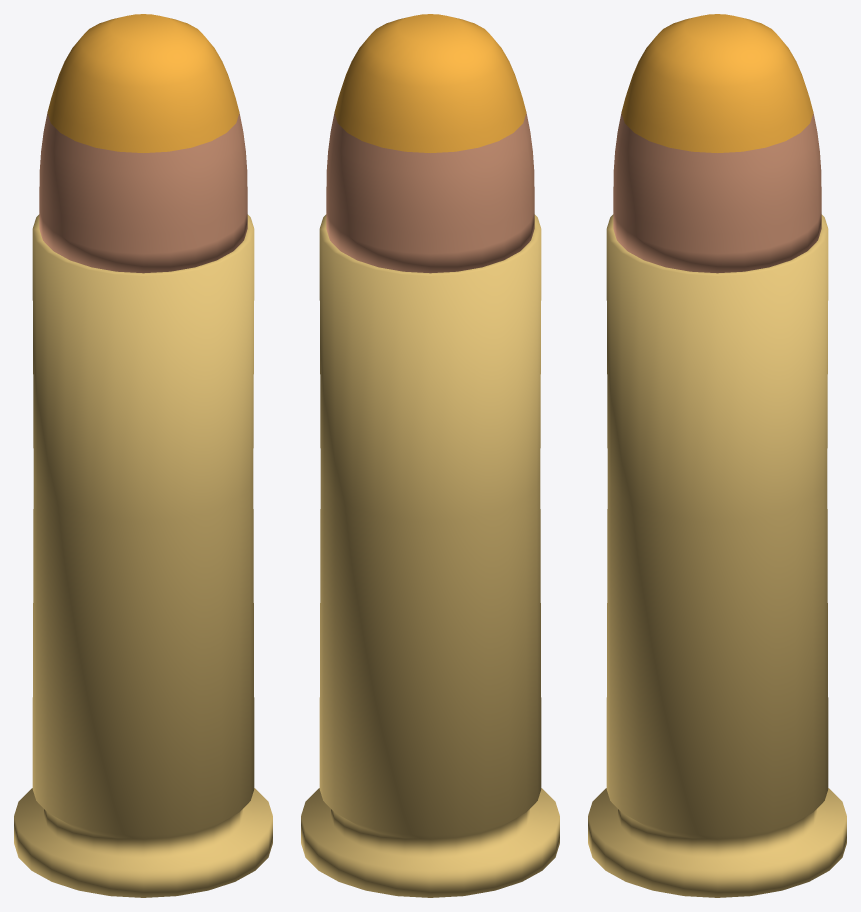
3 renders of one model, left to right at view 1: azimuth 30°, elevation 25°; view 2: azimuth 150°, elevation 25°; view 3: azimuth 270°, elevation 25°, orthographic.
Parts seen in each view (by area): view 1: vaina, bala_cuerpo, punta; view 2: vaina, bala_cuerpo, punta; view 3: vaina, bala_cuerpo, punta.
Part boxes in pixels (<box>): vaina: <box>14,214,272,897</box>; bala_cuerpo: <box>39,113,247,273</box>; punta: <box>47,14,239,152</box>; vaina: <box>301,214,559,897</box>; bala_cuerpo: <box>326,113,534,273</box>; punta: <box>334,14,526,152</box>; vaina: <box>588,214,846,897</box>; bala_cuerpo: <box>613,113,821,273</box>; punta: <box>621,14,813,152</box>.
Bounding box in the file's own units: 0.0112 × 0.0389 × 0.0112.
